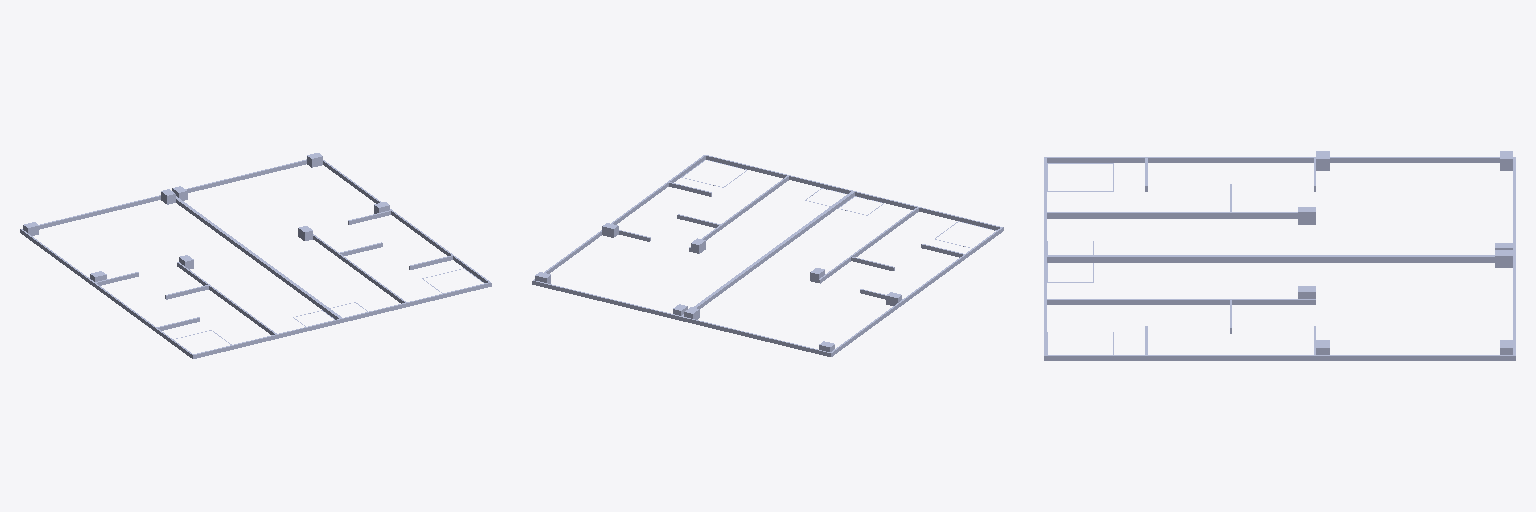
URDF robot description (field1):
<?xml version="1.0" encoding="utf-8"?>
<!-- This URDF was automatically created by SolidWorks to URDF Exporter! Originally created by [author] ([email redacted]) 
     Commit Version: 1.6.0-4-g7f85cfe  Build Version: 1.6.7995.38578
     For more information, please see http://wiki.ros.org/sw_urdf_exporter -->
<robot
  name="field1">
  <link
    name="base_link">
    <inertial>
      <origin
        xyz="-5.09239829665589E-15 3.23807574993721 0.0454807296272433"
        rpy="0 0 0" />
      <mass
        value="107.07298432" />
      <inertia
        ixx="551.162246847647"
        ixy="-6.86372870877539E-13"
        ixz="-1.32831732686512E-14"
        iyy="427.13971003324"
        iyz="3.50723159253698E-14"
        izz="978.150424762087" />
    </inertial>
    <visual>
      <origin
        xyz="0 0 0"
        rpy="0 0 0" />
      <geometry>
        <mesh
          filename="package://field1/meshes/base_link.STL" />
      </geometry>
      <material
        name="">
        <color
          rgba="0.792156862745098 0.819607843137255 0.933333333333333 1" />
      </material>
    </visual>
    <collision>
      <origin
        xyz="0 0 0"
        rpy="0 0 0" />
      <geometry>
        <mesh
          filename="package://field1/meshes/base_link.STL" />
      </geometry>
    </collision>
  </link>
</robot>

--- Facts derived from the render (not from the file) ---
3 views of the same robot in one strip: view 1: azimuth 30°, elevation 25°; view 2: azimuth 150°, elevation 25°; view 3: azimuth 270°, elevation 25° (orthographic).
Model field1 with 1 links and 0 joints (none), rooted at base_link, posed all joints at 0.
Visible links, largest first — view 1: base_link; view 2: base_link; view 3: base_link.
Link boxes in pixels (box(x1,y1,x2,y2)): base_link: box(20, 153, 491, 358); base_link: box(532, 155, 1003, 356); base_link: box(1044, 151, 1515, 360).
Bounding box of the posed robot: 7 × 7 × 0.2 m (x, y, z).
Meshes: 1 distinct files referenced, 1 mesh visuals loaded (1 binary STL).